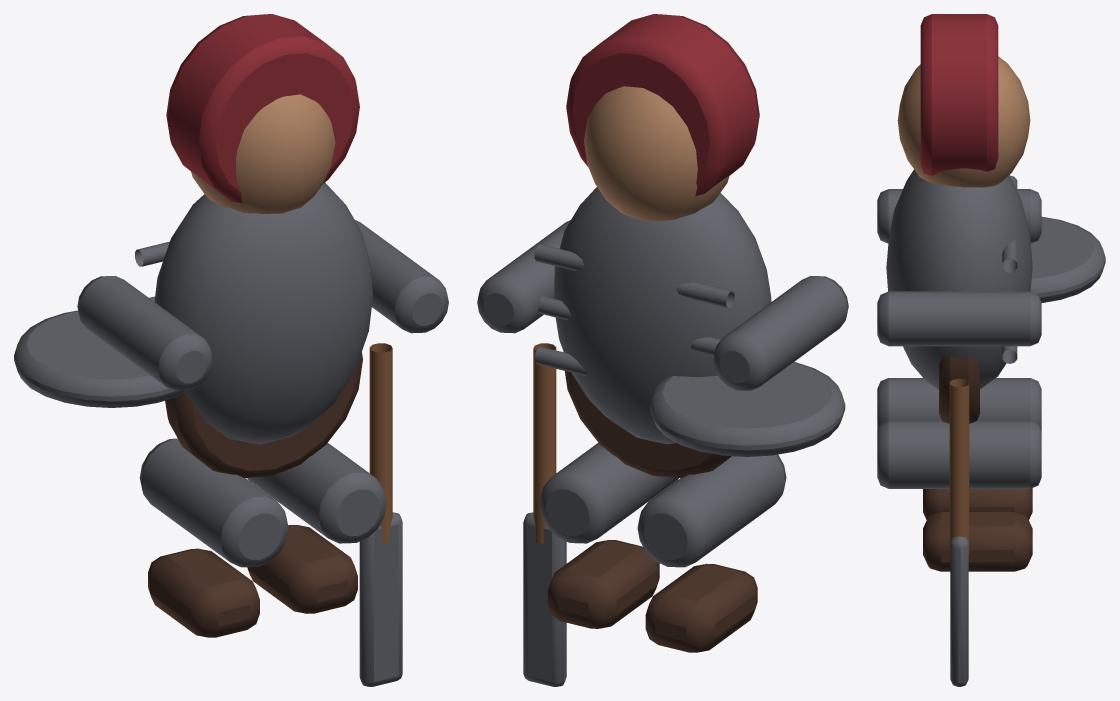
The model's file is hero.glb.
The picture shows the model from 3 angles, left to right: view 1: azimuth 30°, elevation 25°; view 2: azimuth 150°, elevation 25°; view 3: azimuth 270°, elevation 25°; orthographic projection. The views are drawn at different scales.
Parts seen in each view (by area): view 1: TorsoMesh, Hood, LeftLegMesh, Head, Shield, LeftArmMesh, RightLegMesh, LeftLegBoot, Belt, Blade, RightLegBoot, RightArmMesh (+1 smaller); view 2: TorsoMesh, Hood, Shield, Head, LeftLegMesh, LeftArmMesh, RightLegMesh, LeftLegBoot, RightLegBoot, Blade, RightArmMesh, Belt (+4 smaller); view 3: TorsoMesh, Hood, RightLegMesh, RightArmMesh, Head, RightLegBoot, LeftLegMesh, Shield, WeaponHandle, Blade, LeftLegBoot, Belt (+2 smaller).
Part boxes in pixels (bbox=[...]): TorsoMesh: bbox=[154, 182, 372, 444]; Hood: bbox=[166, 14, 359, 202]; LeftLegMesh: bbox=[139, 438, 288, 567]; Head: bbox=[191, 94, 335, 213]; Shield: bbox=[14, 310, 184, 407]; LeftArmMesh: bbox=[77, 276, 212, 390]; RightLegMesh: bbox=[247, 443, 386, 543]; LeftLegBoot: bbox=[148, 548, 259, 637]; Belt: bbox=[165, 352, 362, 477]; Blade: bbox=[359, 512, 402, 686]; RightLegBoot: bbox=[247, 525, 357, 613]; RightArmMesh: bbox=[355, 220, 448, 333]; TorsoMesh: bbox=[554, 187, 771, 444]; Hood: bbox=[566, 14, 759, 195]; Shield: bbox=[650, 362, 845, 456]; Head: bbox=[584, 86, 729, 221]; LeftLegMesh: bbox=[637, 454, 786, 567]; LeftArmMesh: bbox=[713, 276, 848, 390]; RightLegMesh: bbox=[539, 443, 678, 543]; LeftLegBoot: bbox=[645, 564, 757, 652]; RightLegBoot: bbox=[547, 540, 659, 628]; Blade: bbox=[523, 512, 566, 686]; RightArmMesh: bbox=[477, 220, 570, 333]; Belt: bbox=[565, 371, 731, 477]; TorsoMesh: bbox=[886, 169, 1032, 389]; Hood: bbox=[920, 14, 998, 176]; RightLegMesh: bbox=[877, 420, 1041, 488]; RightArmMesh: bbox=[877, 291, 1041, 346]; Head: bbox=[897, 56, 1030, 187]; RightLegBoot: bbox=[923, 511, 1032, 571]; LeftLegMesh: bbox=[877, 378, 1041, 430]; Shield: bbox=[1030, 216, 1105, 302]; WeaponHandle: bbox=[949, 378, 969, 554]; Blade: bbox=[950, 536, 968, 686]; LeftLegBoot: bbox=[923, 488, 1032, 519]; Belt: bbox=[939, 355, 979, 423].
Size of the model in its own units: 1.56 by 2.94 by 1.
